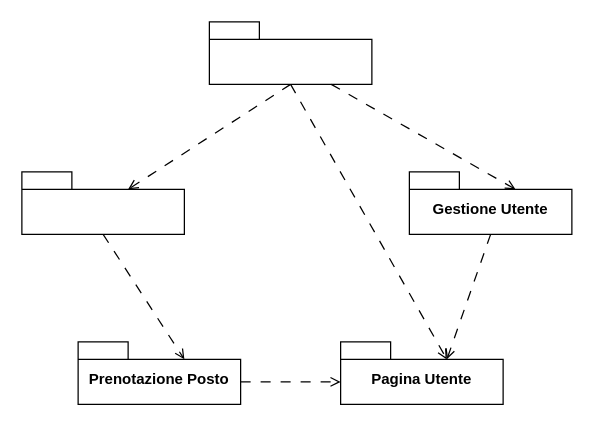
This 594x426 diagram has some shape labels left out. Here are the shapes that lost their labels. From the top down, the centre of each, then its label:
At point (290, 52): "Interfaccia Utente".
At point (102, 202): "Proiezioni Film".
